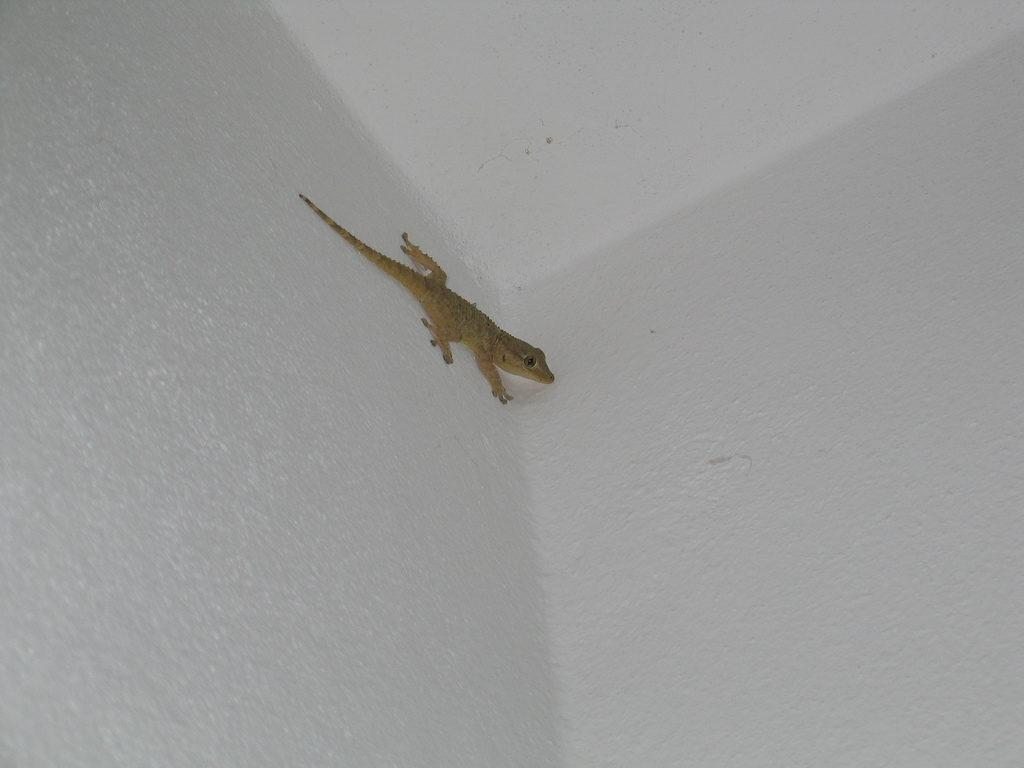lizard: (292, 190, 557, 405)
